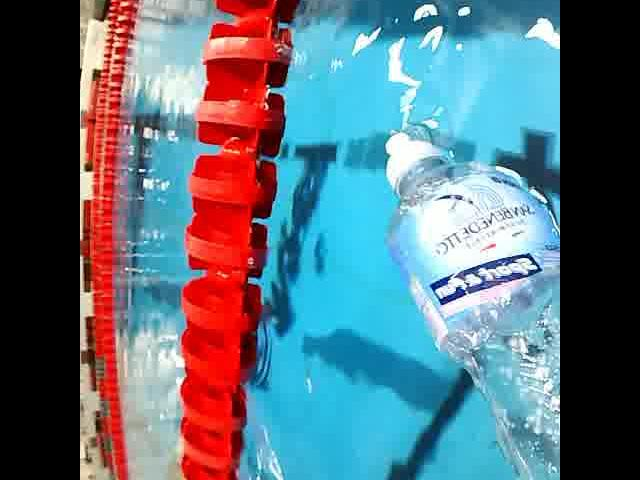Bottle: (375, 117, 560, 480)
